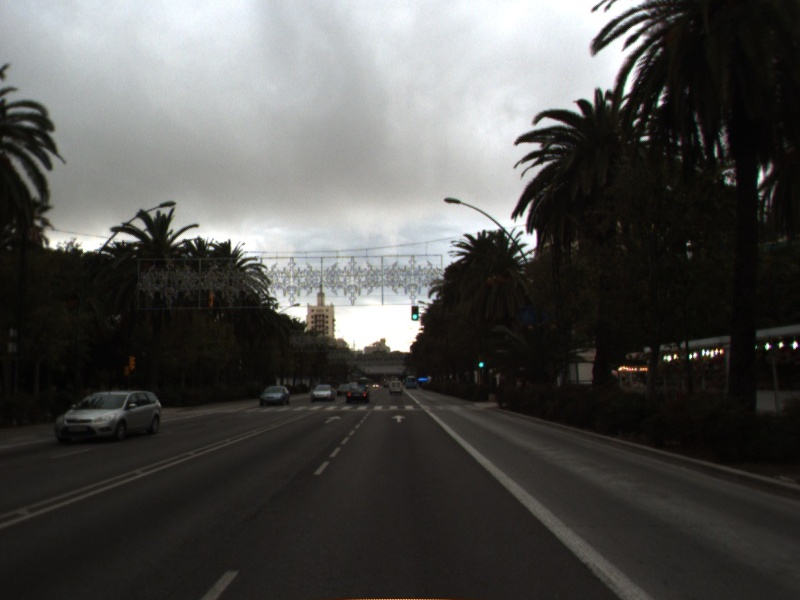STRAIGHT: (322, 413, 344, 426), (389, 412, 408, 424)
